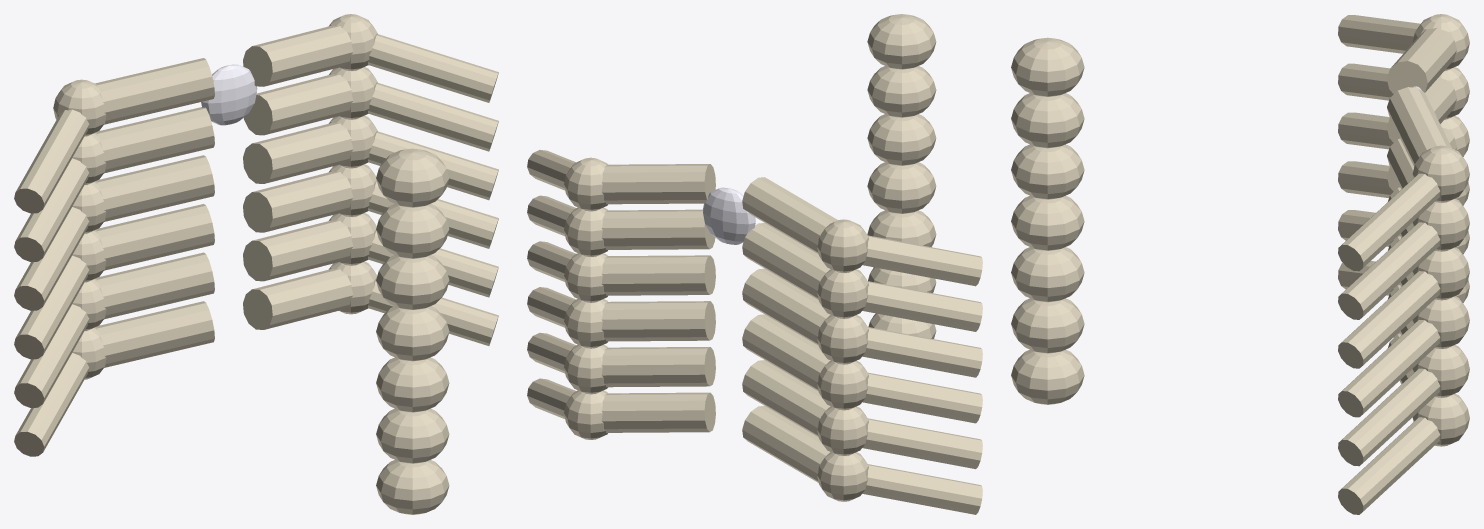
File: BoneArmorUpperTorso.obj
The picture shows the model from 3 angles, left to right: view 1: azimuth 30°, elevation 25°; view 2: azimuth 150°, elevation 25°; view 3: azimuth 270°, elevation 25°; orthographic projection. The views are drawn at different scales.
Parts seen in each view (by area): view 1: BoneArmorUpperTorso; view 2: BoneArmorUpperTorso; view 3: BoneArmorUpperTorso.
Boxes of the visible parts, <box> form: BoneArmorUpperTorso: <box>14,14,498,514</box>; BoneArmorUpperTorso: <box>527,14,982,514</box>; BoneArmorUpperTorso: <box>1011,14,1469,514</box>.
Size of the model in its own units: 1.97 by 1.41 by 1.62.
